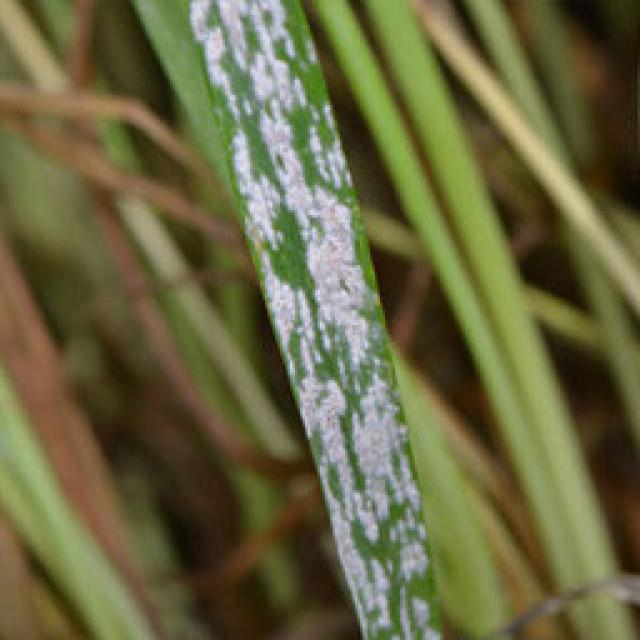wheat-powdery-mildew: (128, 0, 450, 640)
